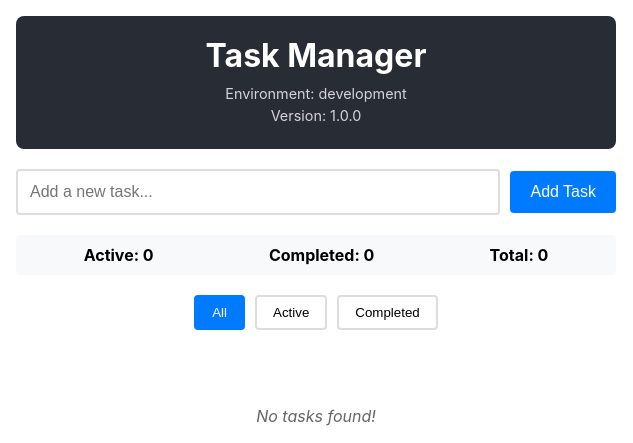
App Component › deletes a task
Type "Test task" into the field with placeholder "Add a new task...". click: (258, 192)
box: top-left (16, 169), bottom-right (500, 215)
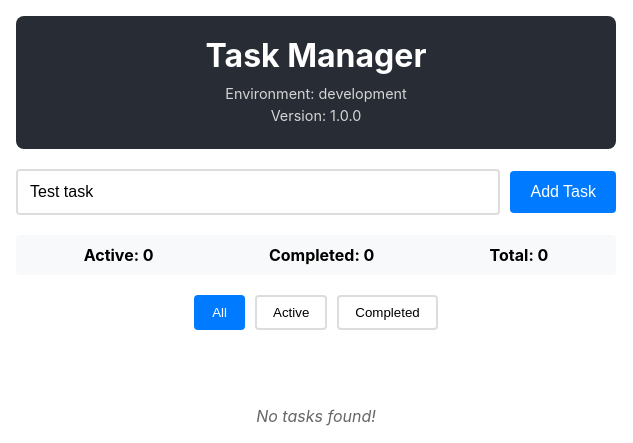
Click the button "Add Task". click: (563, 192)
box: top-left (510, 171), bottom-right (616, 213)
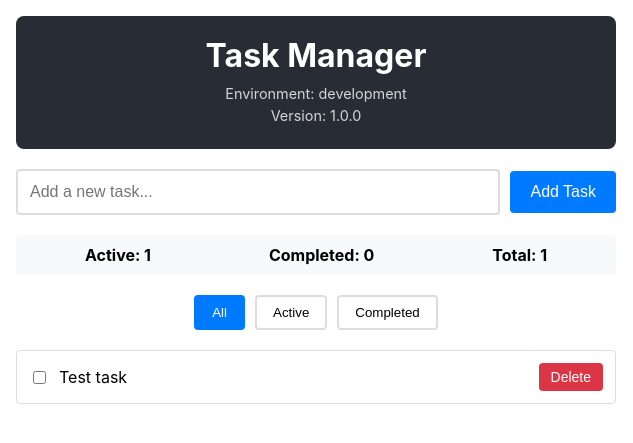
Click the button "Delete". click: (571, 377)
box: top-left (538, 363), bottom-right (603, 391)
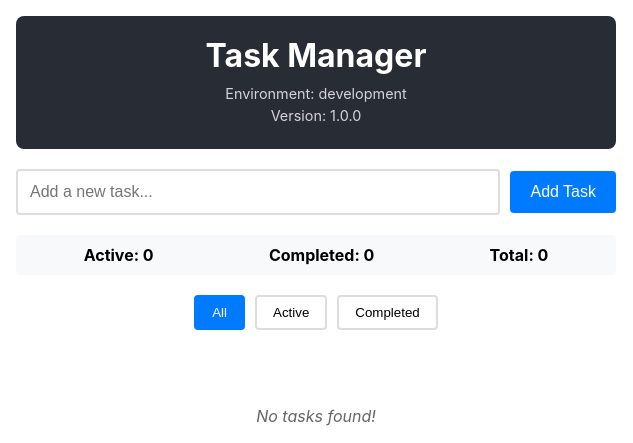
Result: the text "Test task" is gone
